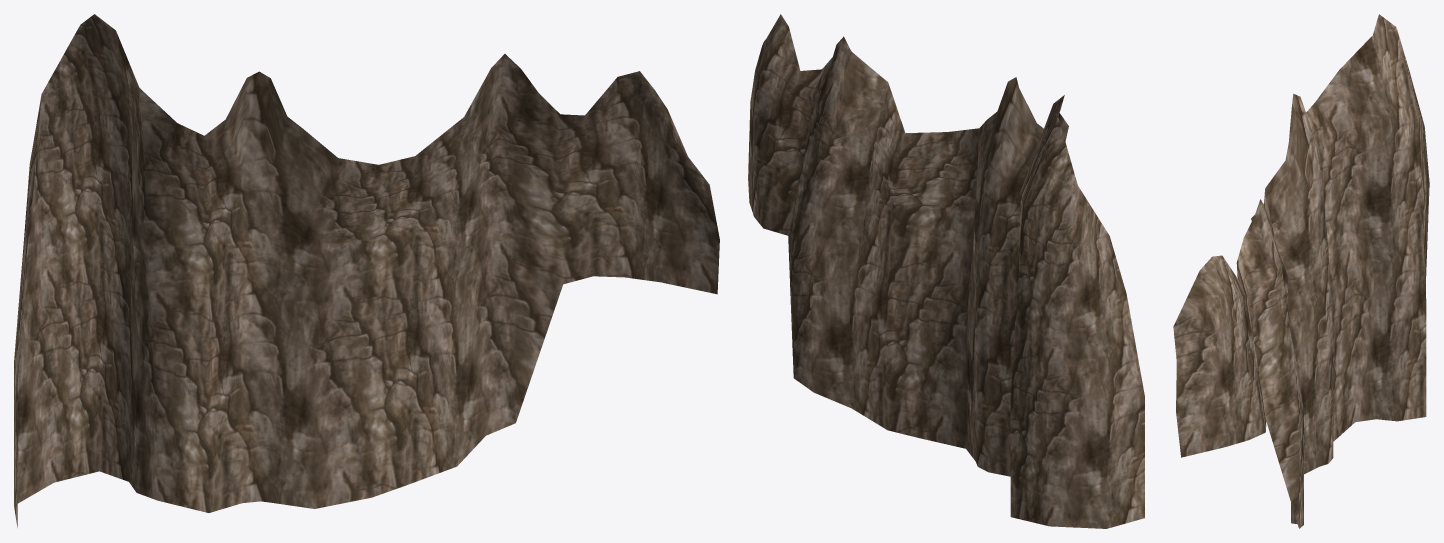
File: OVERHILL_A_01_MOUNTAIN_BACKDROP_05.fbx
3 views of the same model, side by side, from view 1: azimuth 30°, elevation 25°; view 2: azimuth 150°, elevation 25°; view 3: azimuth 270°, elevation 25° (orthographic). The views are drawn at different scales.
Parts seen in each view (by area): view 1: OVERHILL_A_01_MOUNTAIN_BACKDROP_05; view 2: OVERHILL_A_01_MOUNTAIN_BACKDROP_05; view 3: OVERHILL_A_01_MOUNTAIN_BACKDROP_05.
Boxes of the visible parts, bbox=[...] form: OVERHILL_A_01_MOUNTAIN_BACKDROP_05: bbox=[14, 14, 719, 527]; OVERHILL_A_01_MOUNTAIN_BACKDROP_05: bbox=[748, 14, 1144, 528]; OVERHILL_A_01_MOUNTAIN_BACKDROP_05: bbox=[1173, 14, 1429, 528].
Bounding box in the file's own units: 359709 × 293820 × 170746.
Materials: 1 (1 with a texture image).
